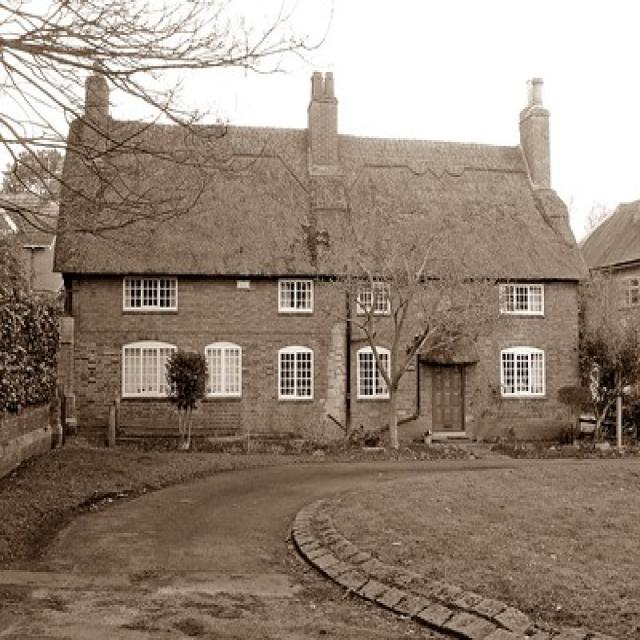Normal_building: (48, 61, 592, 448)
